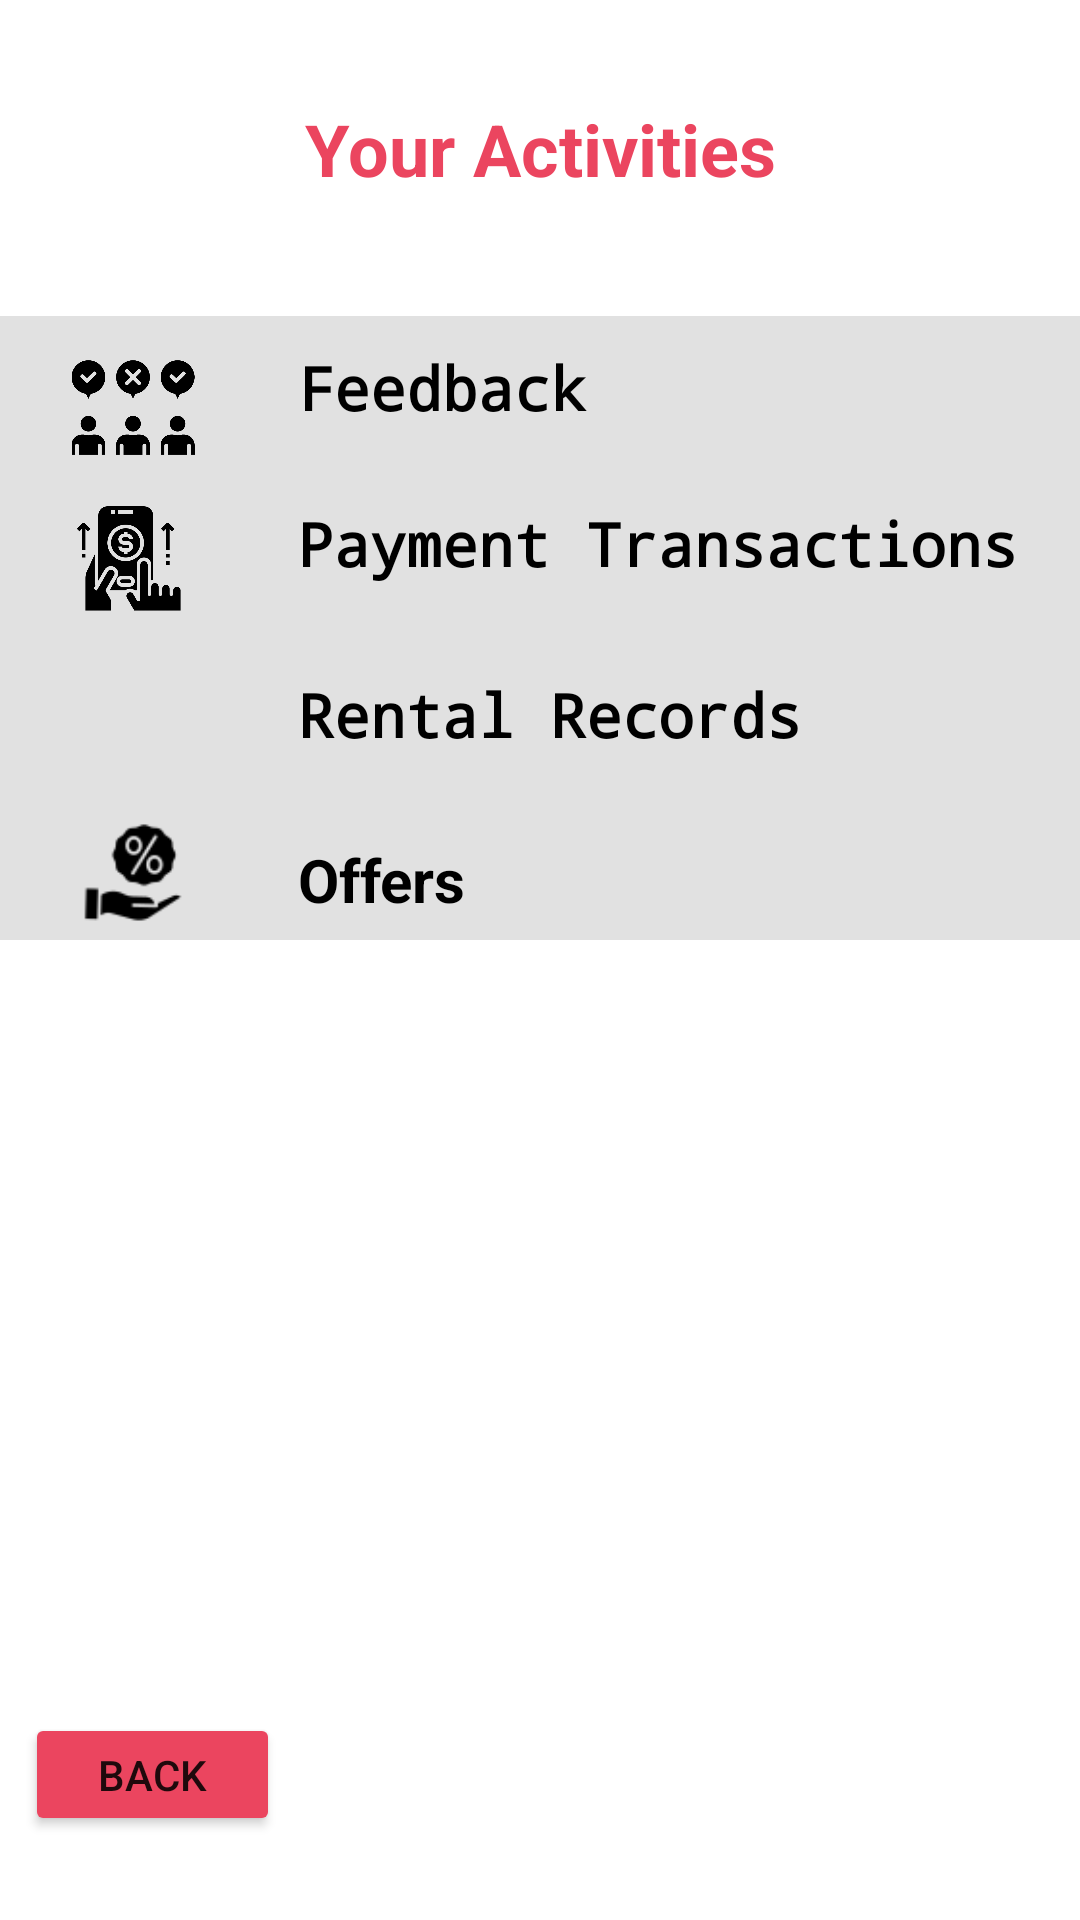

Screen size 1080w x 1920h. Icon name, then its center in pixels as [x,y]:
vote: [133,407]
